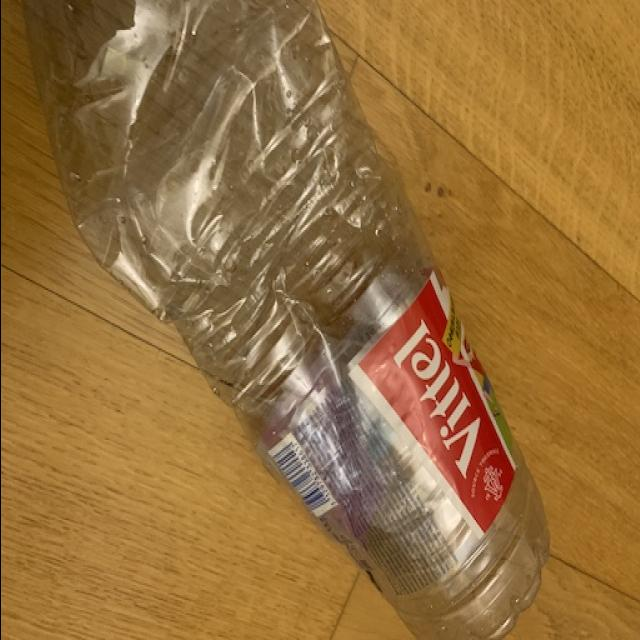litter: (18, 0, 575, 633)
